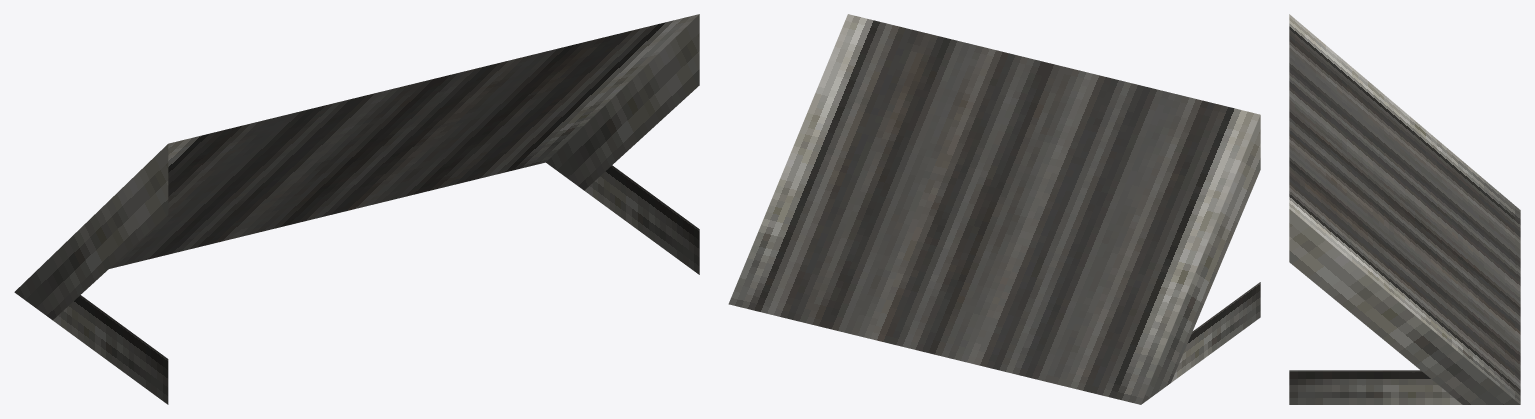
File: detailAwning_small.fbx
3 renders of one model, left to right at view 1: azimuth 30°, elevation 25°; view 2: azimuth 150°, elevation 25°; view 3: azimuth 270°, elevation 25°, orthographic. The views are drawn at different scales.
Parts seen in each view (by area): view 1: detailAwning_small; view 2: detailAwning_small; view 3: detailAwning_small.
Boxes of the visible parts, bbox=[...] form: detailAwning_small: bbox=[14, 14, 699, 404]; detailAwning_small: bbox=[728, 14, 1260, 404]; detailAwning_small: bbox=[1289, 14, 1520, 404].
Bounding box in the file's own units: 5.98 × 2.81 × 3.
